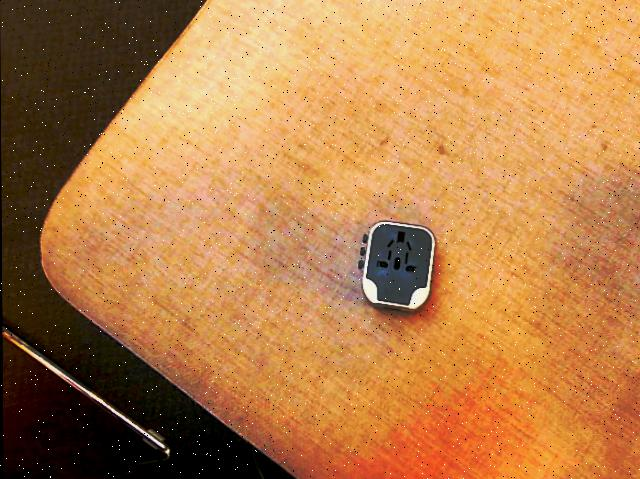adapter: (356, 220, 435, 312)
